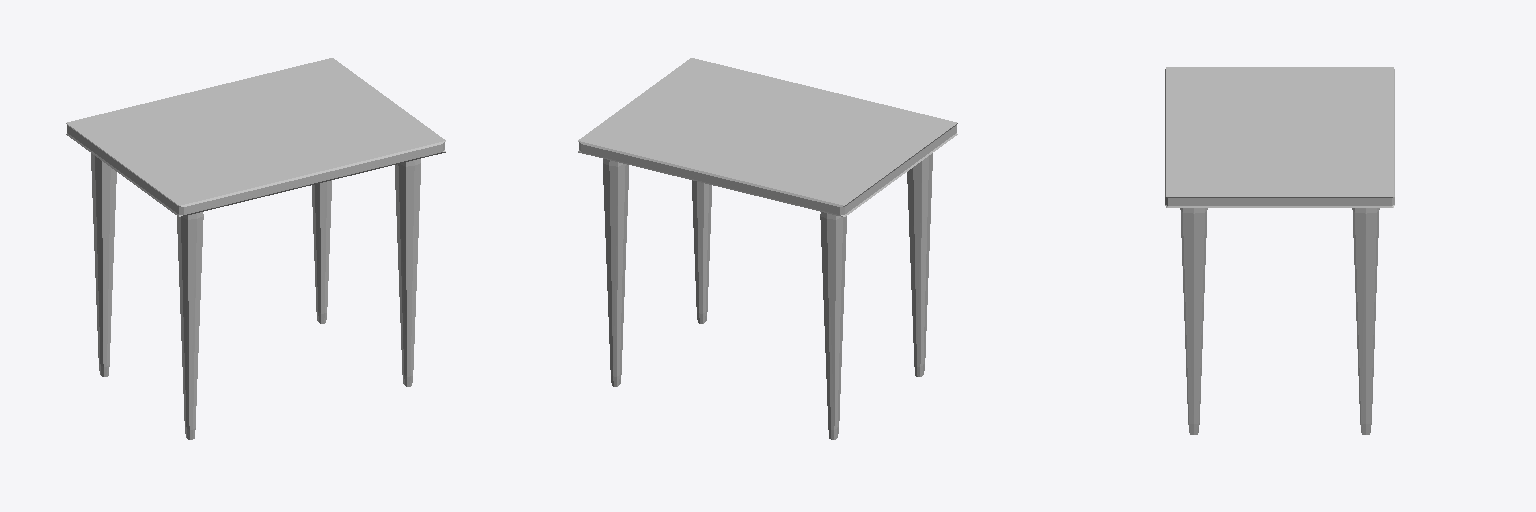
Rendered from Kitchen_Table.obj.
The picture shows the model from 3 angles: view 1: azimuth 30°, elevation 25°; view 2: azimuth 150°, elevation 25°; view 3: azimuth 270°, elevation 25°; orthographic projection.
Visible parts, largest first — view 1: Kitchen_Table; view 2: Kitchen_Table; view 3: Kitchen_Table.
Part boxes in pixels (bbox=[...]): Kitchen_Table: bbox=[66, 58, 445, 439]; Kitchen_Table: bbox=[578, 58, 957, 439]; Kitchen_Table: bbox=[1165, 67, 1394, 434].
Size of the model in its own units: 1.21 by 1.07 by 0.9.